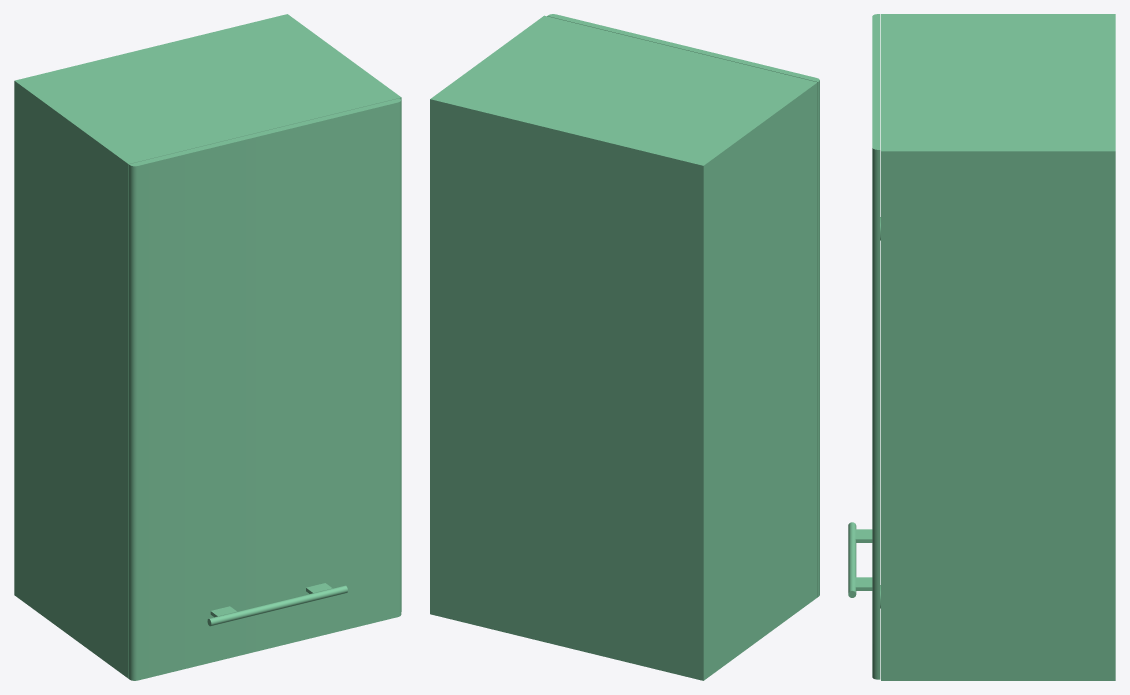
Rendered from hospital_kitchen_module_6.fbx.
3 renders of one model, left to right at view 1: azimuth 30°, elevation 25°; view 2: azimuth 150°, elevation 25°; view 3: azimuth 270°, elevation 25°, orthographic. The views are drawn at different scales.
Visible parts, largest first — view 1: hospital_kitchen_module_6_Door, hospital_kitchen_module_6; view 2: hospital_kitchen_module_6, hospital_kitchen_module_6_Door; view 3: hospital_kitchen_module_6, hospital_kitchen_module_6_Door.
Part boxes in pixels (box(x1,y1,x2,y2)): hospital_kitchen_module_6_Door: box(128, 98, 401, 680); hospital_kitchen_module_6: box(14, 14, 401, 678); hospital_kitchen_module_6: box(430, 15, 817, 680); hospital_kitchen_module_6_Door: box(547, 14, 819, 596); hospital_kitchen_module_6: box(881, 14, 1115, 680); hospital_kitchen_module_6_Door: box(848, 14, 880, 679).
Size of the model in its own units: 40 by 72 by 32.97.
